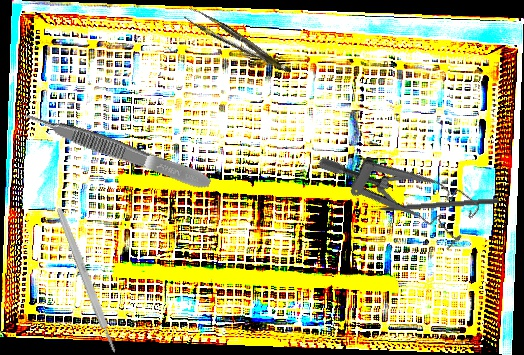Hook Surgical: (357, 197, 500, 214)
Scalpel Handle: (54, 206, 119, 355)
Speculum: (315, 111, 485, 264)
Tissue Forceps: (21, 104, 214, 194), (183, 1, 292, 86)
